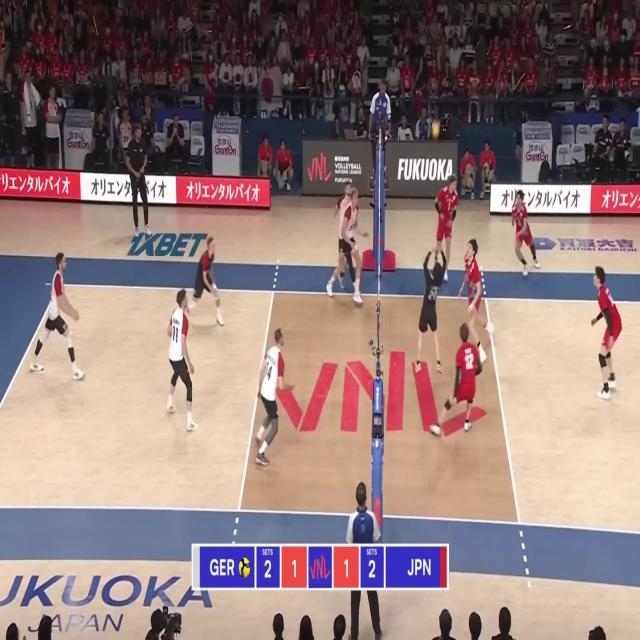referee: (346, 482, 384, 639)
team_one: (28, 250, 82, 378), (253, 326, 296, 467), (163, 289, 199, 439), (326, 191, 363, 306), (186, 236, 225, 326), (334, 184, 355, 290)
team_two: (430, 319, 482, 441), (586, 266, 623, 402), (457, 237, 488, 367), (413, 250, 446, 370), (510, 186, 542, 276), (434, 176, 456, 282)
